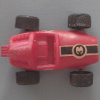rojo_este: (2, 14, 98, 86)
